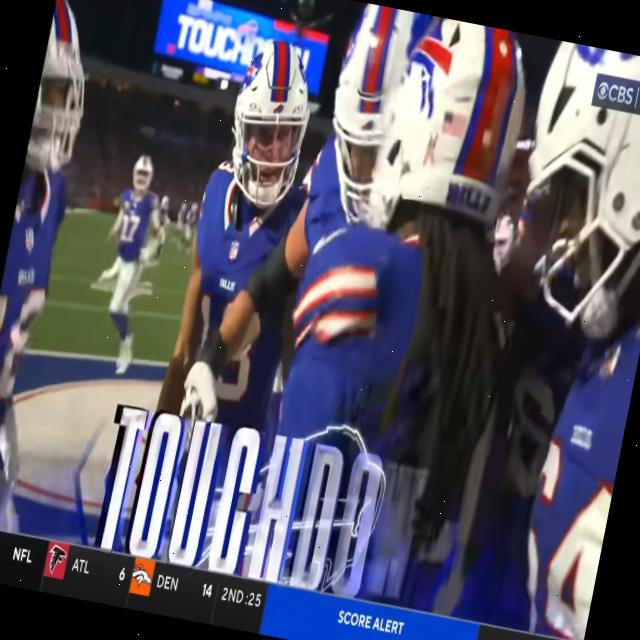Player: (272, 2, 552, 462), (439, 39, 640, 640), (170, 34, 321, 423), (0, 0, 109, 519), (92, 150, 167, 374)
